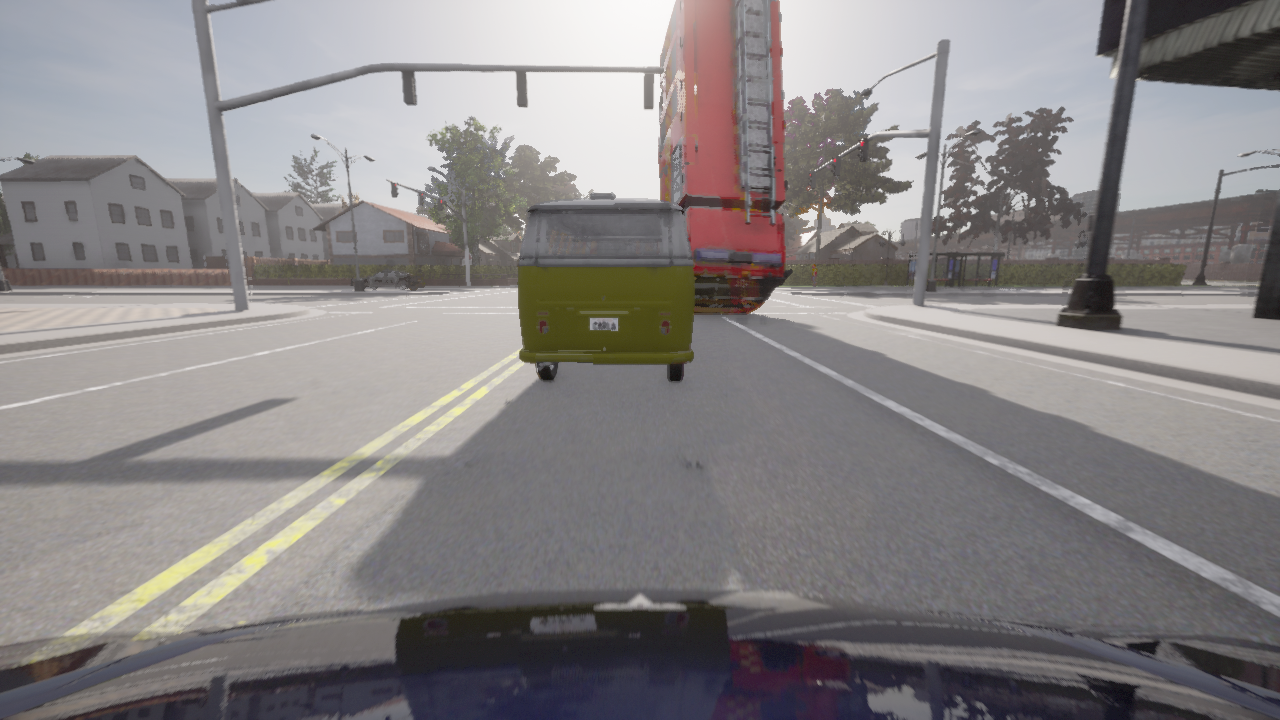cyclist: (0, 588, 1279, 719), (658, 0, 791, 313), (518, 199, 693, 381), (349, 268, 423, 290), (591, 192, 614, 198)
pedestrian: (812, 265, 816, 285), (938, 281, 948, 285)
